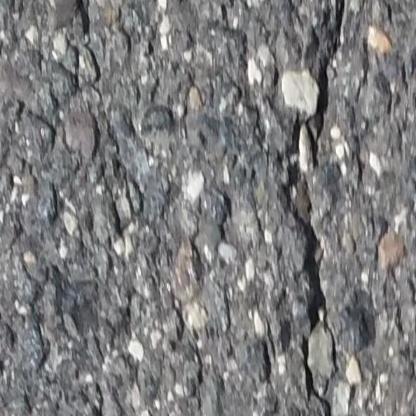Cracks: (288, 0, 350, 170), (298, 218, 345, 416)
